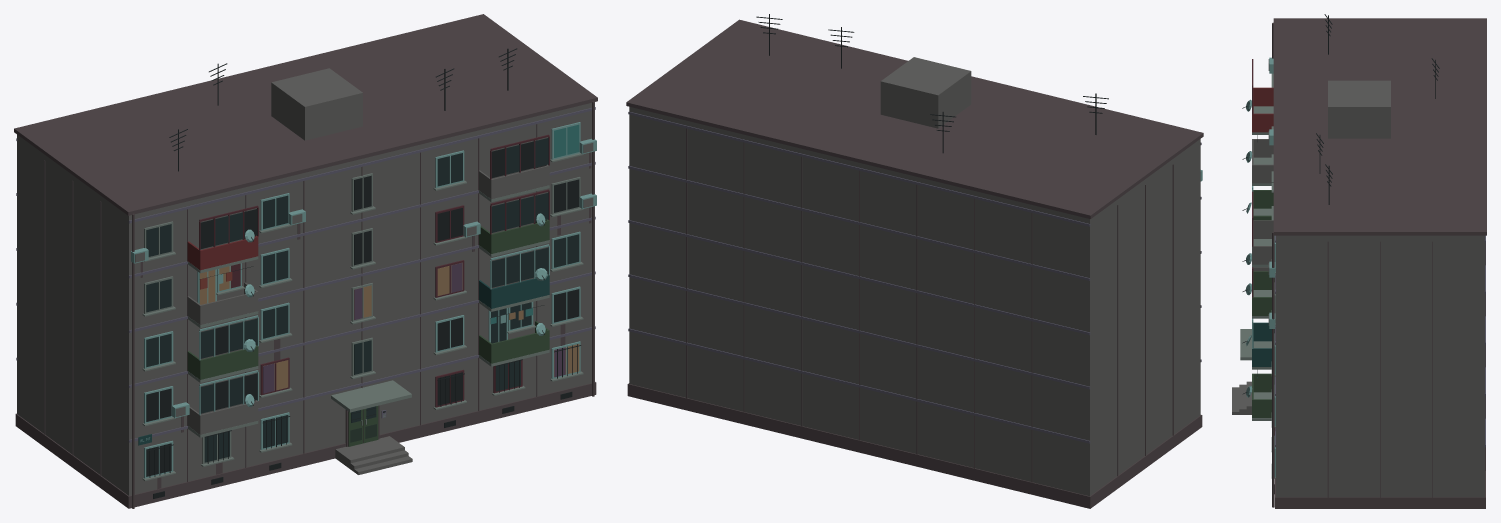
File: bloc.glb
The picture shows the model from 3 angles, left to right: view 1: azimuth 30°, elevation 25°; view 2: azimuth 150°, elevation 25°; view 3: azimuth 270°, elevation 25°; orthographic projection. The views are drawn at different scales.
Visible parts, largest first — view 1: Bloc, Lumini; view 2: Bloc; view 3: Bloc.
Boxes of the visible parts, x1=… form: Bloc: x1=14, y1=14, x2=597, y2=508; Lumini: x1=199, y1=124, x2=579, y2=390; Bloc: x1=626, y1=14, x2=1203, y2=508; Bloc: x1=1232, y1=14, x2=1486, y2=508.
Size of the model in its own units: 24.2 by 16.7 by 12.2.
